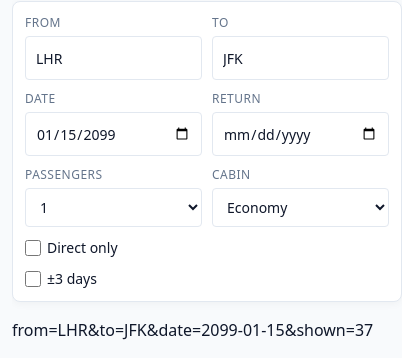
Test case: SearchFormBar › changing a search-affecting field resets shown to 7 (drop stale page count)
Replace the text in the dropdown labelled "From" with "cdg" at (114, 58), box [25,36,202,80]
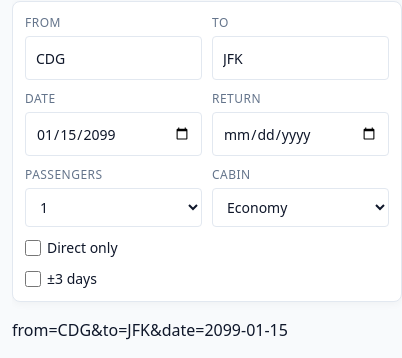
Check: the text with test id "probe" shows "from=CDG", box [12,319,288,341]
Check: the text with test id "probe" no longer shows "shown=37"
